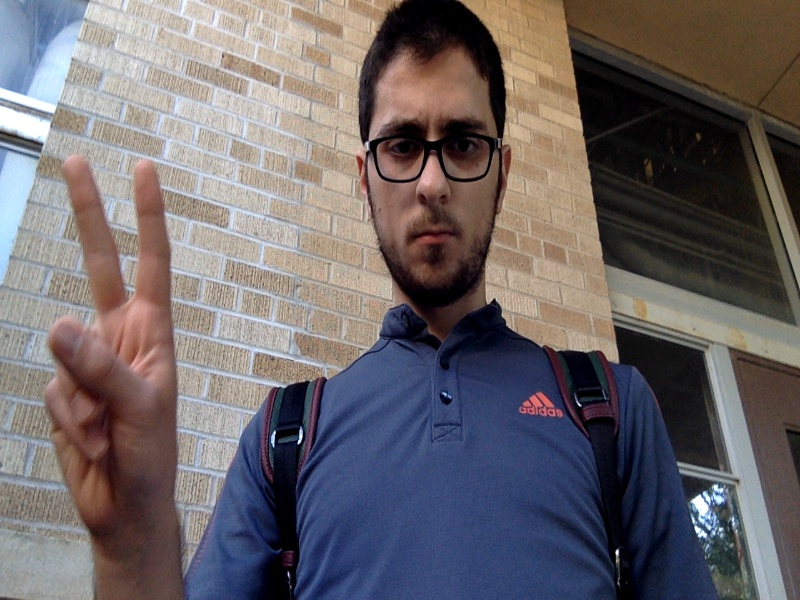2-hand: (48, 155, 177, 549)
